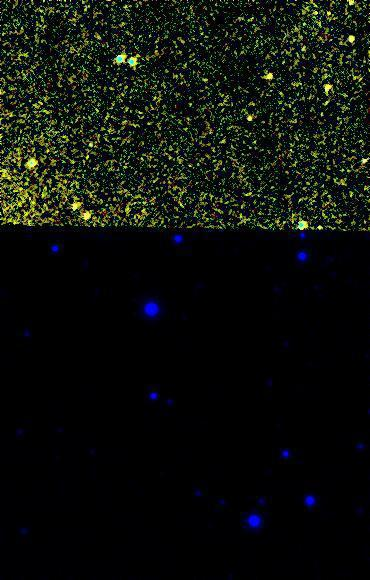star: (68, 131, 98, 161)
